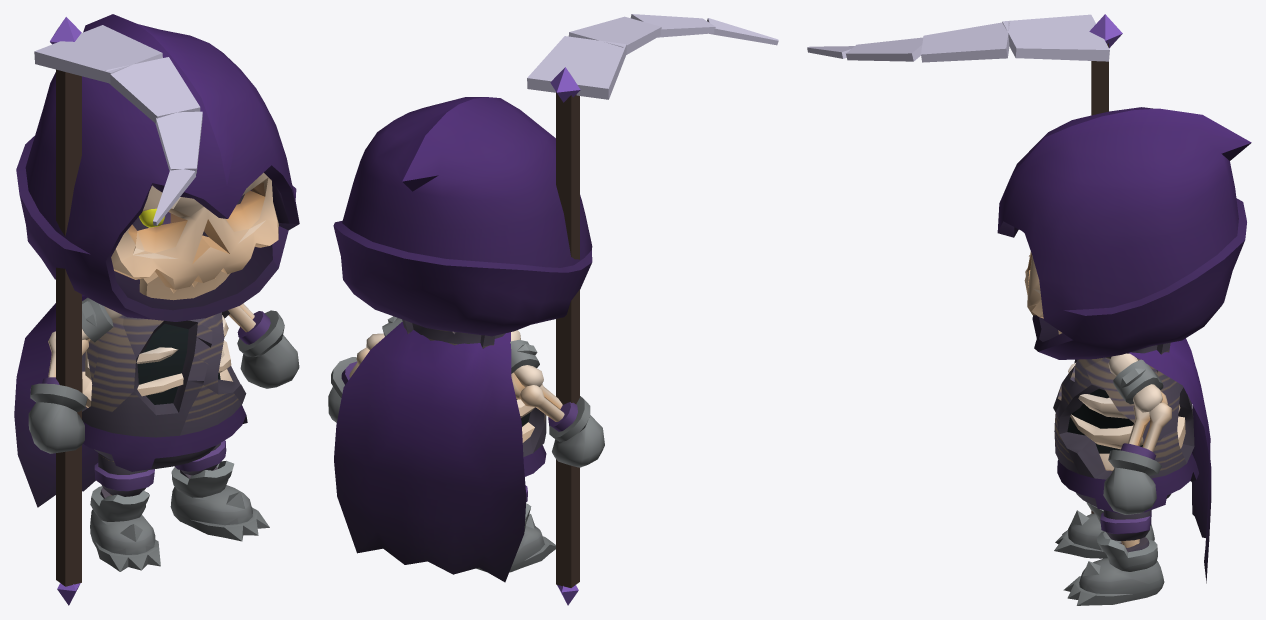
3 views of the same model, side by side, from view 1: azimuth 30°, elevation 25°; view 2: azimuth 150°, elevation 25°; view 3: azimuth 270°, elevation 25° (orthographic). The views are drawn at different scales.
Visible parts, largest first — view 1: Skeleton_Rogue_Hood, Scythe, Skeleton_Rogue_Body, Skeleton_Rogue_Head, Skeleton_Rogue_LegRight, Skeleton_Rogue_LegLeft, Skeleton_Rogue_Cape, Skeleton_Rogue_ArmRight, Skeleton_Rogue_ArmLeft, Skeleton_Rogue_Jaw; view 2: Skeleton_Rogue_Hood, Skeleton_Rogue_Cape, Scythe, Skeleton_Rogue_ArmRight, Skeleton_Rogue_Body, Skeleton_Rogue_ArmLeft, Skeleton_Rogue_LegRight; view 3: Skeleton_Rogue_Hood, Skeleton_Rogue_Body, Scythe, Skeleton_Rogue_ArmLeft, Skeleton_Rogue_LegLeft, Skeleton_Rogue_Cape, Skeleton_Rogue_LegRight, Skeleton_Rogue_Head.
Part boxes in pixels (x1=…): Skeleton_Rogue_Hood: x1=16, y1=14, x2=299, y2=321; Scythe: x1=34, y1=17, x2=202, y2=605; Skeleton_Rogue_Body: x1=82, y1=310, x2=247, y2=471; Skeleton_Rogue_Head: x1=111, y1=172, x2=278, y2=289; Skeleton_Rogue_LegRight: x1=90, y1=453, x2=160, y2=571; Skeleton_Rogue_LegLeft: x1=170, y1=440, x2=269, y2=541; Skeleton_Rogue_Cape: x1=14, y1=294, x2=98, y2=507; Skeleton_Rogue_ArmRight: x1=28, y1=297, x2=122, y2=453; Skeleton_Rogue_ArmLeft: x1=228, y1=303, x2=299, y2=388; Skeleton_Rogue_Jaw: x1=139, y1=271, x2=230, y2=300; Skeleton_Rogue_Hood: x1=333, y1=97, x2=592, y2=336; Skeleton_Rogue_Cape: x1=334, y1=322, x2=526, y2=582; Scythe: x1=527, y1=14, x2=778, y2=605; Skeleton_Rogue_ArmRight: x1=510, y1=330, x2=604, y2=467; Skeleton_Rogue_Body: x1=402, y1=319, x2=546, y2=476; Skeleton_Rogue_ArmLeft: x1=328, y1=316, x2=402, y2=422; Skeleton_Rogue_LegRight: x1=476, y1=485, x2=555, y2=572; Skeleton_Rogue_Hood: x1=997, y1=107, x2=1251, y2=359; Skeleton_Rogue_Body: x1=1053, y1=342, x2=1198, y2=513; Scythe: x1=807, y1=14, x2=1122, y2=513; Skeleton_Rogue_ArmLeft: x1=1103, y1=353, x2=1171, y2=514; Skeleton_Rogue_LegLeft: x1=1063, y1=510, x2=1164, y2=605; Skeleton_Rogue_Cape: x1=1129, y1=338, x2=1211, y2=583; Skeleton_Rogue_LegRight: x1=1054, y1=502, x2=1154, y2=558; Skeleton_Rogue_Head: x1=1024, y1=251, x2=1043, y2=318.
Size of the model in its own units: 1.32 by 2.38 by 1.76.
Materials: 5 (1 with a texture image).
